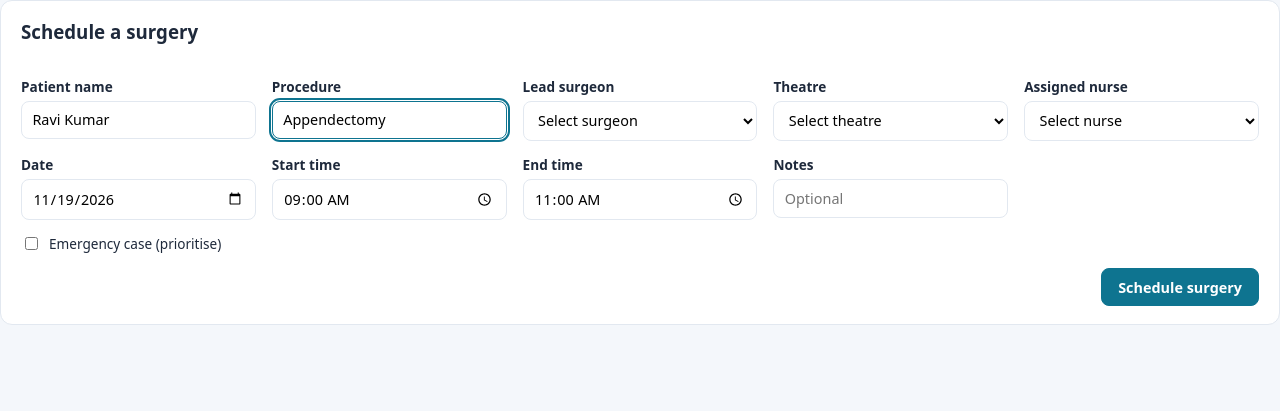
it: SurgeryForm › blocks submission when end time is before start time
This screenshot has width=1280, height=411.
Earlier steps of the test are not shown.
Select "Dr. Ram Sharma" in the dropdown labelled "Lead surgeon" at [640, 121], box [523,100,757,141]
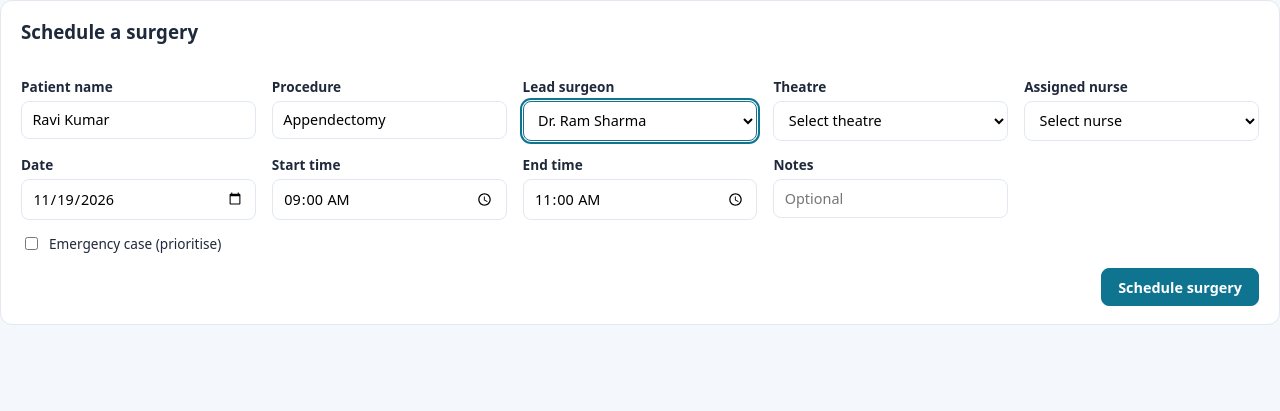
Select "OT-1 · General Surgery" in the dropdown labelled "Theatre" at [891, 121], box [773,100,1008,141]
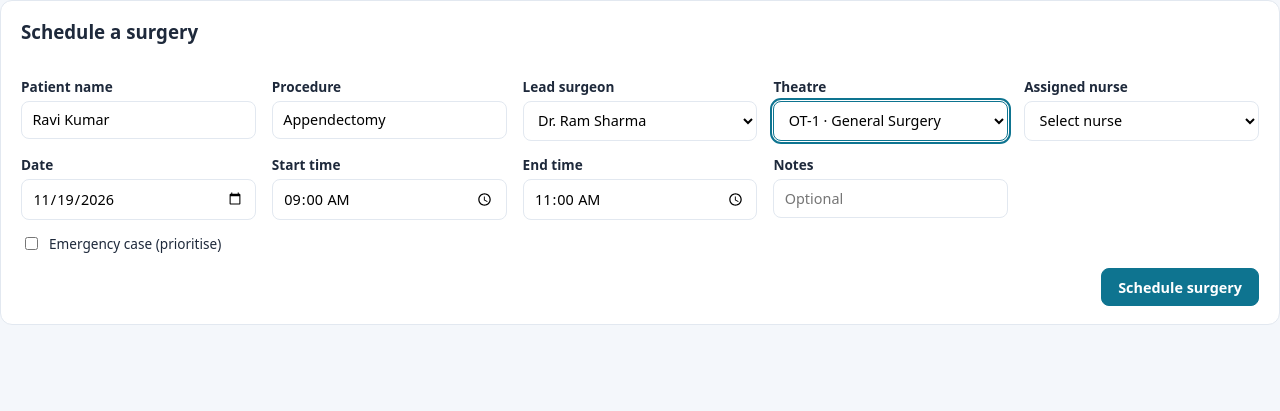
Select "Nurse A" in the dropdown labelled "Assigned nurse" at [1142, 121], box [1024,100,1259,141]
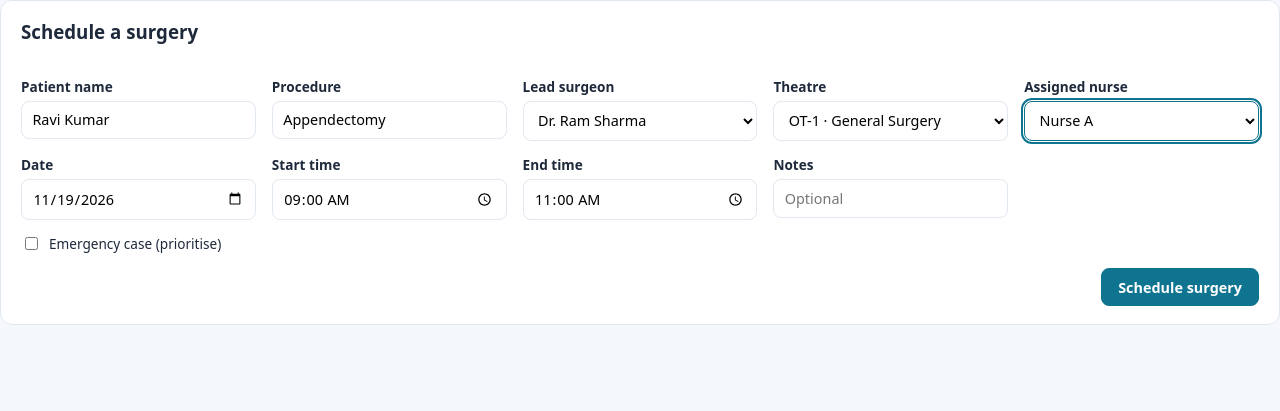
Replace the text in the time field labelled "Start time" with "11:00" at [389, 200], box [272,179,507,220]
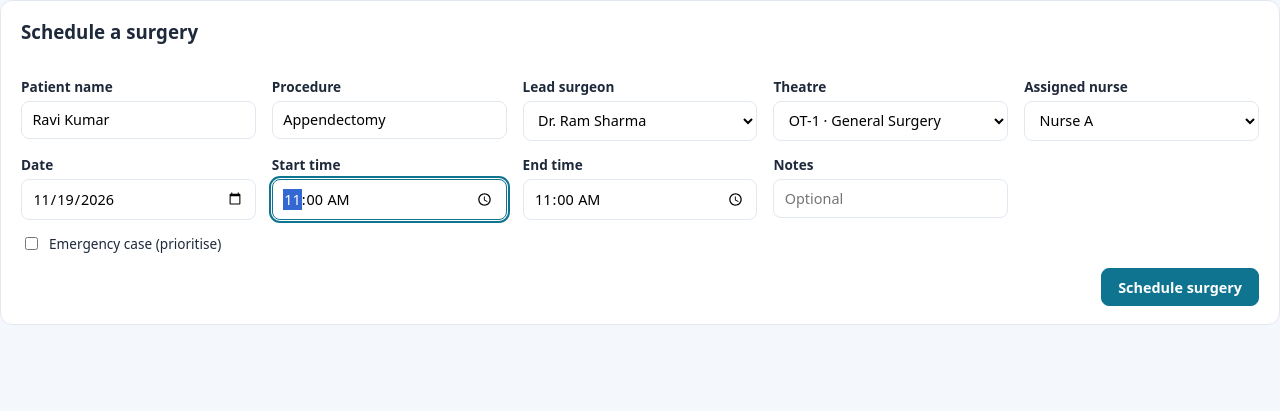
Replace the text in the time field labelled "End time" with "09:00" at [640, 200], box [523,179,757,220]
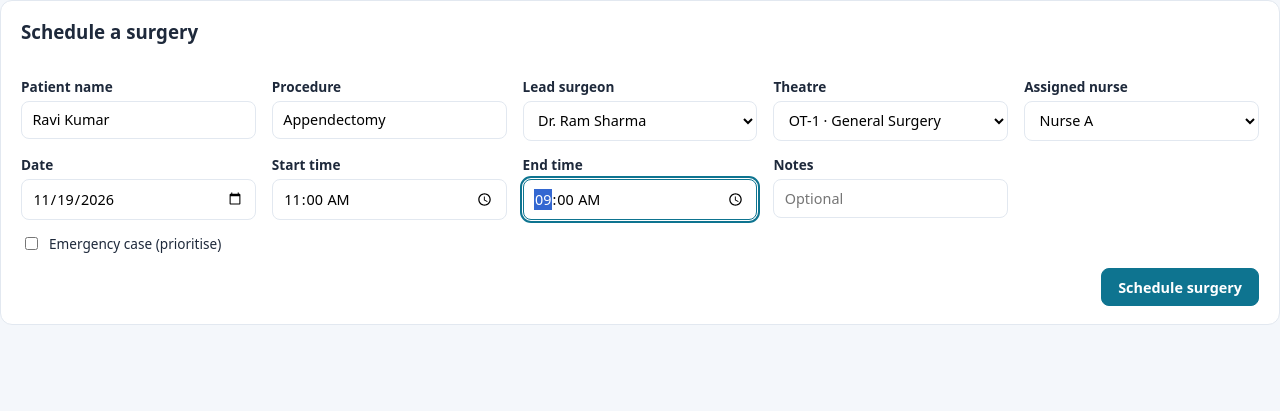
Click the button "Schedule surgery" at [1180, 287], box [1101,268,1259,306]
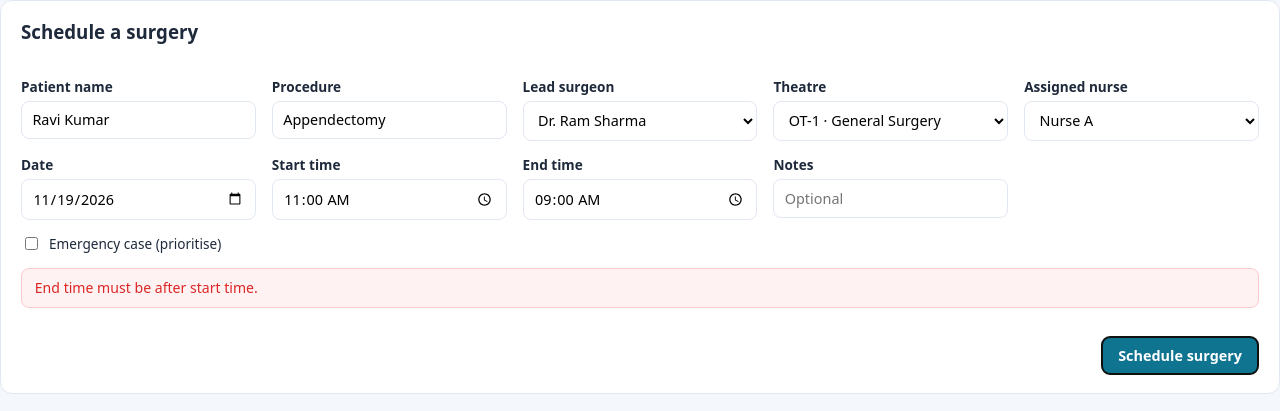
Result: the message shows "End time must be after start time" at [35,278,258,297]
